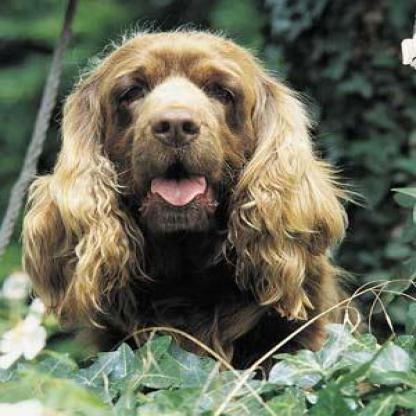Sussex_spaniel: (21, 29, 340, 353)
